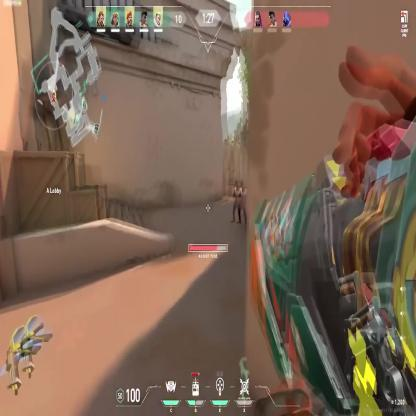enemy: (234, 180, 244, 224)
enemy_head: (235, 180, 239, 188)
